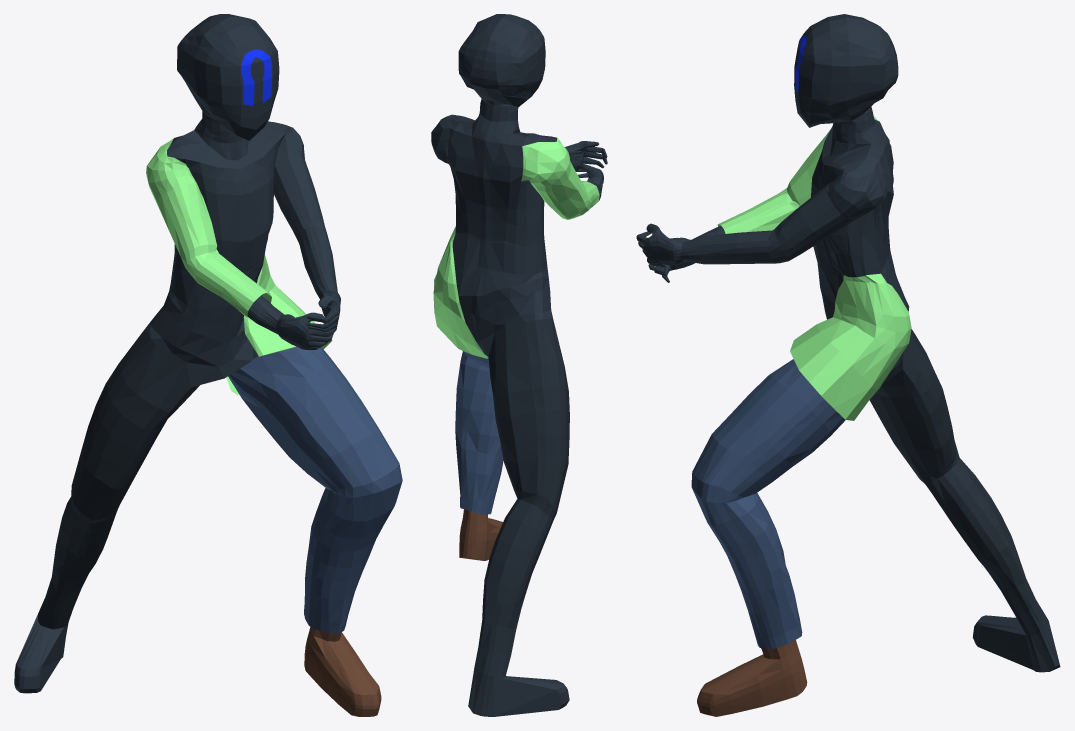
File: Mar_WR_000022.obj
The picture shows the model from 3 angles, left to right: view 1: azimuth 30°, elevation 25°; view 2: azimuth 150°, elevation 25°; view 3: azimuth 270°, elevation 25°; orthographic projection. The views are drawn at different scales.
Parts seen in each view (by area): view 1: Cube.000_Cube.001; view 2: Cube.000_Cube.001; view 3: Cube.000_Cube.001.
Part boxes in pixels (x1,y1,x2,y2): Cube.000_Cube.001: (14, 14, 402, 716); Cube.000_Cube.001: (431, 14, 607, 716); Cube.000_Cube.001: (636, 14, 1060, 716).
Bounding box in the file's own units: 1.38 × 3.71 × 2.07.
